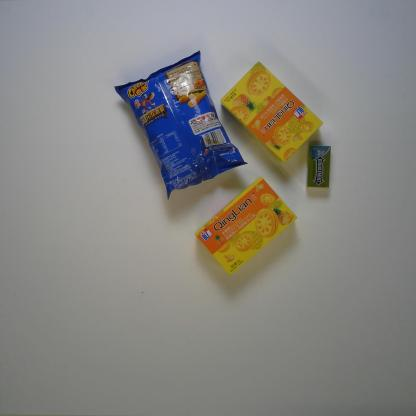Dessert: (219, 60, 324, 163), (193, 177, 298, 279)
Gum: (308, 144, 332, 191)
Puffed Food: (112, 50, 250, 203)
